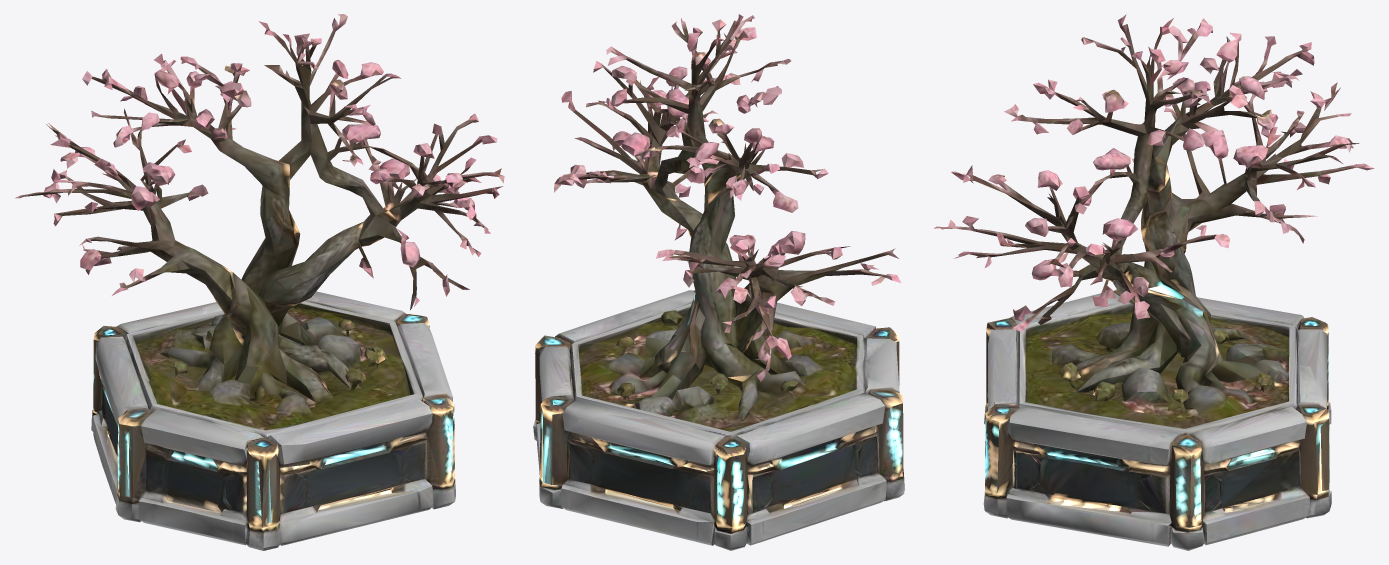
Rendered from blossom_tree.glb.
The picture shows the model from 3 angles, left to right: view 1: azimuth 30°, elevation 25°; view 2: azimuth 150°, elevation 25°; view 3: azimuth 270°, elevation 25°; orthographic projection.
Parts seen in each view (by area): view 1: blossom_tree; view 2: blossom_tree; view 3: blossom_tree.
Part boxes in pixels (<box>): blossom_tree: <box>15,14,504,550</box>; blossom_tree: <box>533,14,904,550</box>; blossom_tree: <box>934,14,1374,550</box>.
Bounding box in the file's own units: 7.06 × 7.97 × 7.05.
1 material, 1 textured.
